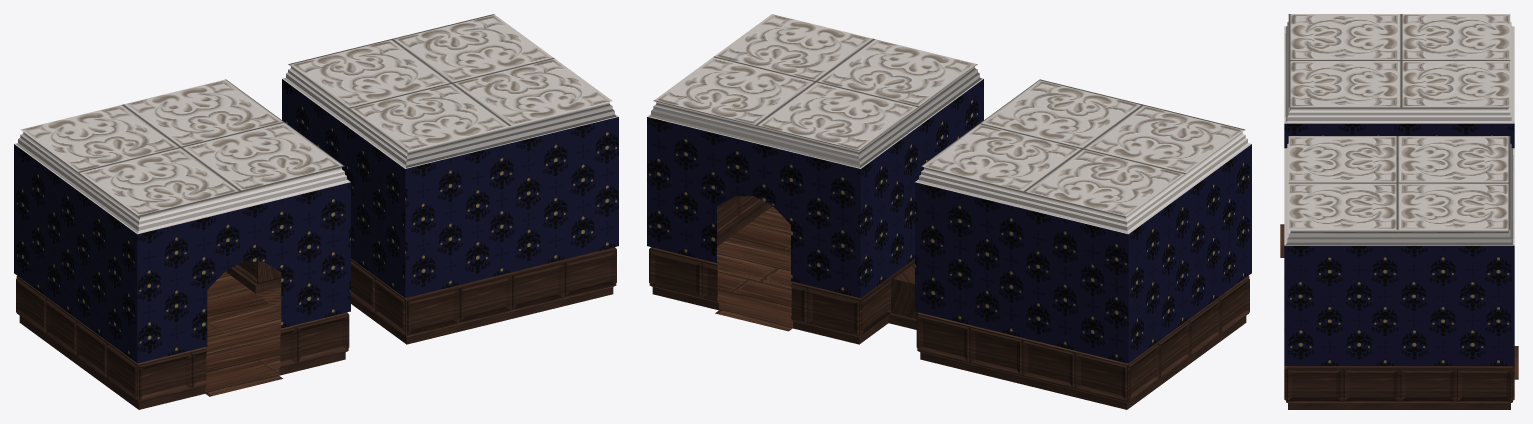
The model's file is StorageRoomUpstairsUpdated.fbx.
3 views of the same model, side by side, from view 1: azimuth 30°, elevation 25°; view 2: azimuth 150°, elevation 25°; view 3: azimuth 270°, elevation 25° (orthographic). The views are drawn at different scales.
Parts seen in each view (by area): view 1: Fragment_Room; view 2: Fragment_Room; view 3: Fragment_Room.
Part boxes in pixels (box(x1,y1,x2,y2)): Fragment_Room: box(14, 14, 618, 409); Fragment_Room: box(647, 14, 1251, 409); Fragment_Room: box(1280, 14, 1518, 409).
Bounding box in the file's own units: 357 × 137 × 164.
